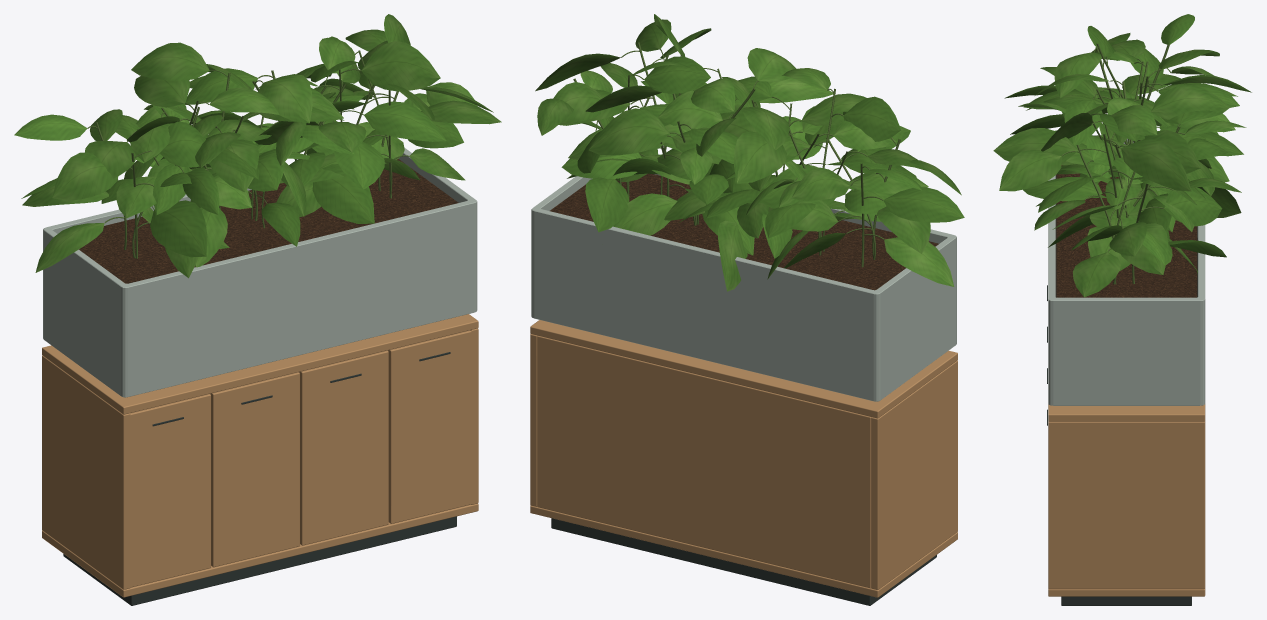
The model's file is botanicalDivider-14.glb.
3 renders of one model, left to right at view 1: azimuth 30°, elevation 25°; view 2: azimuth 150°, elevation 25°; view 3: azimuth 270°, elevation 25°, orthographic. The views are drawn at different scales.
Parts seen in each view (by area): view 1: StoragePlanter_Door (×4), Planter_pothos_leaves, Planter_oiled_oak, StoragePlanter_Side (×2), Planter_loose_soil, StoragePlanter_Top, StoragePlanter_Bottom, StoragePlanter_Plinth, Planter_pothos_stems, Planter_matte_accent; view 2: StoragePlanter_Back, Planter_pothos_leaves, Planter_oiled_oak, StoragePlanter_Side (×2), Planter_loose_soil, StoragePlanter_Top, StoragePlanter_Plinth, StoragePlanter_Bottom, Planter_pothos_stems, Planter_matte_accent; view 3: Planter_pothos_leaves, StoragePlanter_Side, Planter_oiled_oak, Planter_loose_soil, Planter_pothos_stems, StoragePlanter_Top, StoragePlanter_Plinth, StoragePlanter_Bottom.
Boxes of the visible parts, left/top/right/bottom form: StoragePlanter_Door (×4): left=126, top=330, right=476, bottom=587; Planter_pothos_leaves: left=14, top=14, right=501, bottom=278; Planter_oiled_oak: left=43, top=147, right=477, bottom=397; StoragePlanter_Side (×2): left=42, top=328, right=478, bottom=589; Planter_loose_soil: left=79, top=158, right=458, bottom=283; StoragePlanter_Top: left=42, top=314, right=478, bottom=414; StoragePlanter_Bottom: left=42, top=503, right=478, bottom=597; StoragePlanter_Plinth: left=63, top=516, right=456, bottom=605; Planter_pothos_stems: left=87, top=50, right=409, bottom=258; Planter_matte_accent: left=133, top=281, right=469, bottom=372; StoragePlanter_Back: left=537, top=336, right=871, bottom=588; Planter_pothos_leaves: left=535, top=14, right=964, bottom=291; Planter_oiled_oak: left=531, top=174, right=956, bottom=401; StoragePlanter_Side (×2): left=530, top=334, right=957, bottom=589; Planter_loose_soil: left=550, top=173, right=938, bottom=290; StoragePlanter_Top: left=530, top=320, right=957, bottom=418; StoragePlanter_Plinth: left=551, top=518, right=936, bottom=605; StoragePlanter_Bottom: left=530, top=505, right=957, bottom=597; Planter_pothos_stems: left=573, top=42, right=900, bottom=267; Planter_matte_accent: left=628, top=312, right=868, bottom=378; Planter_pothos_leaves: left=993, top=14, right=1251, bottom=297; StoragePlanter_Side: left=1048, top=421, right=1205, bottom=589; Planter_oiled_oak: left=1048, top=135, right=1205, bottom=405; Planter_loose_soil: left=1056, top=165, right=1196, bottom=297; Planter_pothos_stems: left=1061, top=43, right=1185, bottom=284; StoragePlanter_Top: left=1048, top=404, right=1205, bottom=421; StoragePlanter_Plinth: left=1061, top=596, right=1191, bottom=605; StoragePlanter_Bottom: left=1048, top=588, right=1205, bottom=596.
Bounding box in the file's own units: 1.46 × 1.58 × 0.7924.
9 materials, 2 textured.
